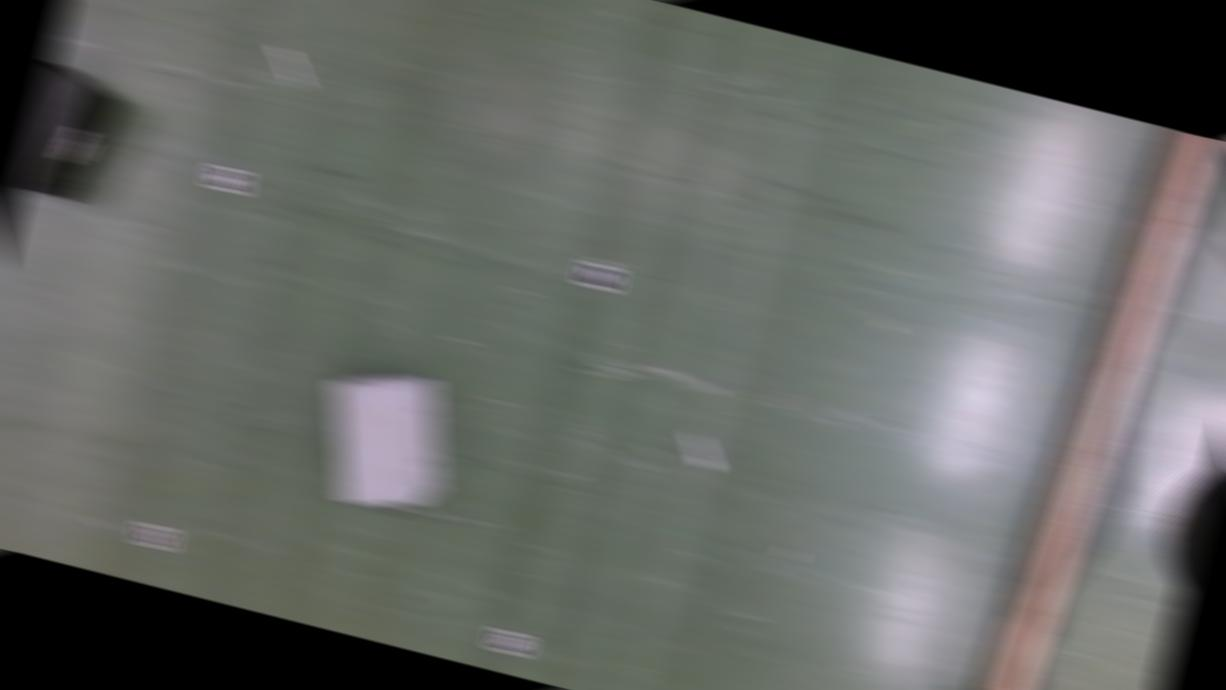probes: (270, 44, 312, 86), (682, 429, 722, 470)
rako: (305, 353, 468, 524), (14, 56, 134, 209)
